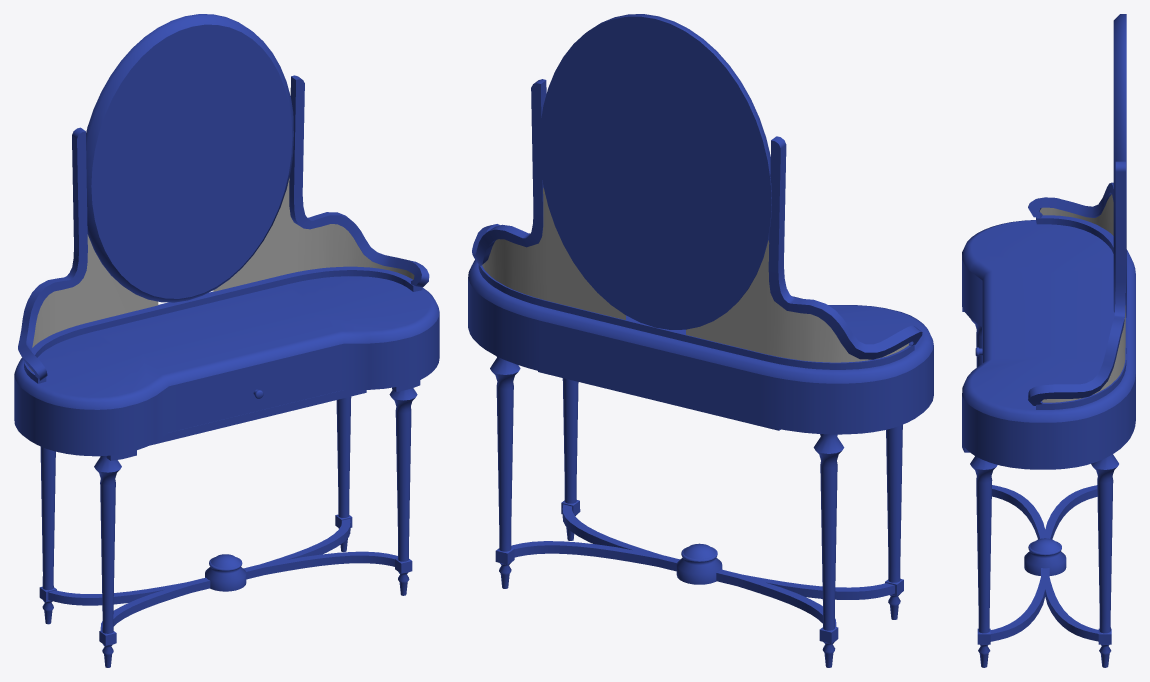
The model's file is b_obj_coiffeuse.fbx.
3 views of the same model, side by side, from view 1: azimuth 30°, elevation 25°; view 2: azimuth 150°, elevation 25°; view 3: azimuth 270°, elevation 25° (orthographic). The views are drawn at different scales.
Parts seen in each view (by area): view 1: table_low, miroir_low, ornam_low, sol_low, porte_socle_low, bloop_gauche_low, bloop_droite_low, pied_04_low, pied_01_low, pied_03_low, pied_02_low, tiroir_low (+1 smaller); view 2: miroir_low, table_low, ornam_low, sol_low, bloop_gauche_low, pied_03_low, porte_socle_low, pied_02_low, bloop_droite_low, pied_04_low, pied_01_low, centre_low; view 3: table_low, sol_low, bloop_droite_low, pied_02_low, pied_01_low, miroir_low, porte_socle_low, ornam_low, centre_low, bloop_gauche_low.
Part boxes in pixels (<box>): table_low: <box>14,276,439,460</box>; miroir_low: <box>86,14,293,302</box>; ornam_low: <box>29,178,414,371</box>; sol_low: <box>48,519,397,630</box>; porte_socle_low: <box>24,266,422,383</box>; bloop_gauche_low: <box>18,127,87,380</box>; bloop_droite_low: <box>289,75,429,287</box>; pied_04_low: <box>94,456,121,667</box>; pied_01_low: <box>389,388,417,595</box>; pied_03_low: <box>39,446,56,624</box>; pied_02_low: <box>335,396,352,551</box>; tiroir_low: <box>149,390,366,445</box>; miroir_low: <box>539,14,771,329</box>; table_low: <box>468,259,933,434</box>; ornam_low: <box>482,188,908,362</box>; sol_low: <box>511,504,894,626</box>; bloop_gauche_low: <box>768,136,922,359</box>; pied_03_low: <box>813,434,844,667</box>; porte_socle_low: <box>478,265,914,369</box>; pied_02_low: <box>490,356,520,588</box>; bloop_droite_low: <box>472,79,546,266</box>; pied_04_low: <box>885,424,903,619</box>; pied_01_low: <box>561,378,580,540</box>; centre_low: <box>676,543,722,584</box>; table_low: <box>962,220,1135,469</box>; sol_low: <box>990,485,1098,641</box>; bloop_droite_low: <box>1028,161,1125,405</box>; pied_02_low: <box>1091,454,1118,667</box>; pied_01_low: <box>970,456,997,667</box>; miroir_low: <box>1113,14,1126,317</box>; porte_socle_low: <box>1036,215,1126,409</box>; ornam_low: <box>1040,194,1125,402</box>; centre_low: <box>1024,538,1066,575</box>; bloop_gauche_low: <box>1028,182,1113,217</box>.
Bounding box in the file's own units: 137 × 184 × 50.91.
